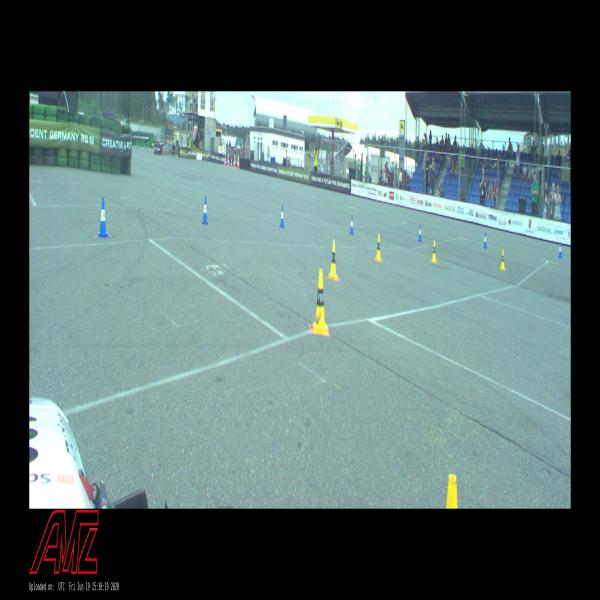blue_cone: (98, 197, 108, 236), (202, 197, 207, 224), (280, 205, 284, 227), (418, 224, 422, 241), (483, 232, 487, 248), (558, 242, 562, 258), (350, 215, 353, 234), (144, 146, 146, 150), (137, 144, 138, 149), (147, 146, 148, 150)
large_orange_cone: (234, 153, 236, 168), (227, 152, 229, 166), (224, 156, 226, 165), (238, 154, 239, 168), (231, 157, 232, 167)
yellow_cone: (314, 269, 328, 334), (446, 475, 457, 508), (329, 241, 337, 280), (376, 235, 381, 261), (500, 250, 505, 270), (432, 240, 436, 262)
